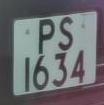1: (20, 53, 33, 96)
3: (50, 52, 71, 91)
4: (68, 49, 88, 87)
6: (32, 54, 52, 93)
P: (35, 17, 58, 55)
S: (56, 15, 77, 52)
